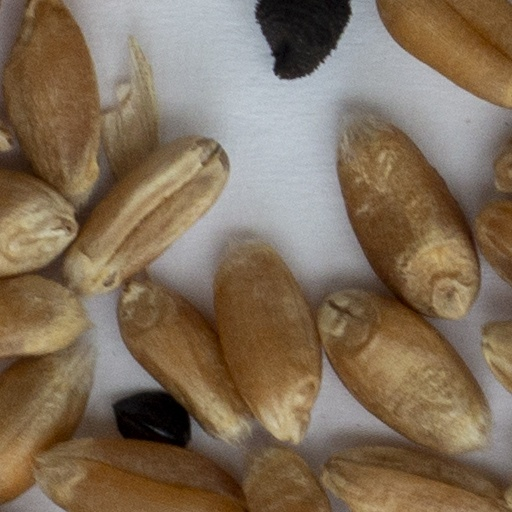Agrostemma-poly: (256, 0, 351, 79)
Fallopia-Convolvulus-poly: (116, 394, 189, 445)
